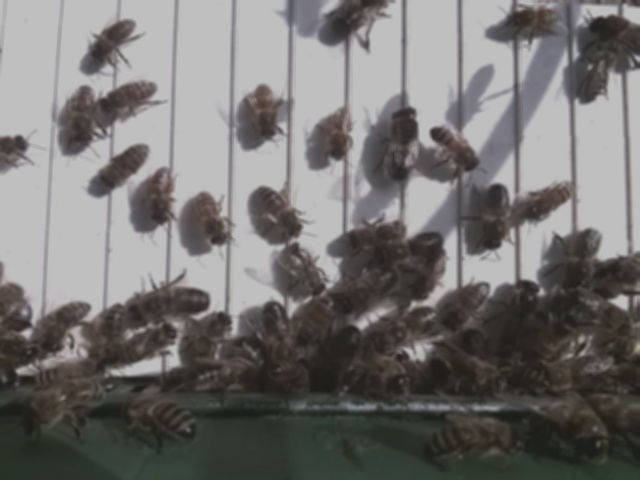Drone: (125, 280, 213, 323), (334, 262, 402, 316), (373, 224, 448, 270), (565, 222, 606, 295), (386, 102, 421, 184), (479, 178, 512, 252)
Worker: (426, 124, 485, 176), (251, 183, 307, 237), (41, 296, 94, 353), (442, 276, 494, 332), (99, 75, 162, 121), (116, 322, 179, 368), (98, 139, 150, 192), (581, 41, 620, 107), (340, 213, 410, 249), (522, 176, 578, 221), (88, 15, 139, 64), (194, 188, 236, 247), (286, 241, 330, 297), (500, 3, 565, 39), (325, 100, 358, 168), (250, 78, 281, 144), (68, 80, 98, 148), (146, 163, 177, 228)
